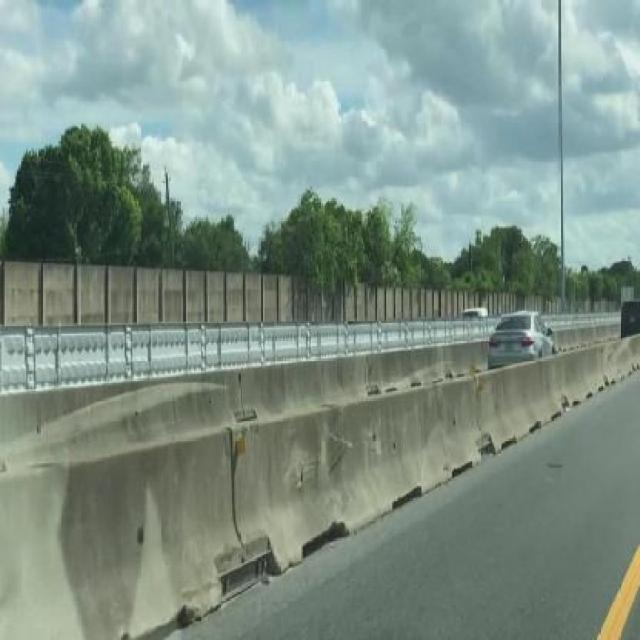fallen_object: (0, 428, 240, 625), (215, 409, 385, 558), (0, 348, 241, 447), (343, 376, 485, 496), (220, 330, 372, 416), (455, 353, 569, 441), (352, 325, 470, 394), (550, 323, 640, 397)
